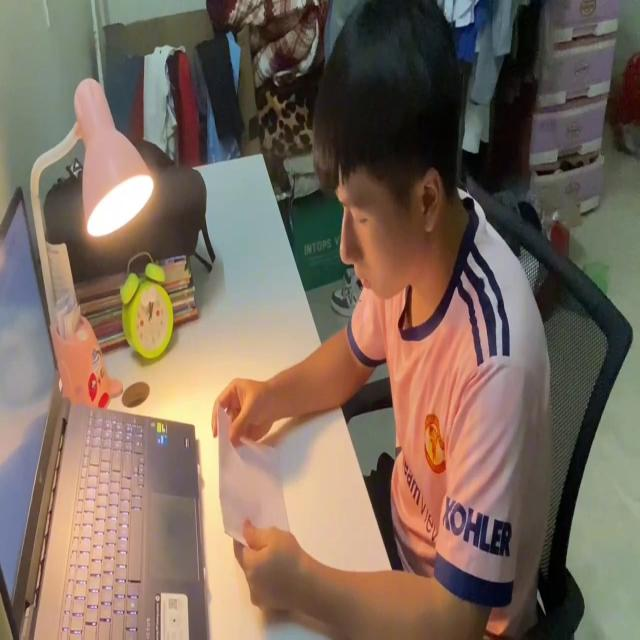book: (214, 393, 298, 558)
laptop: (0, 173, 210, 639)
student: (212, 0, 557, 640)
